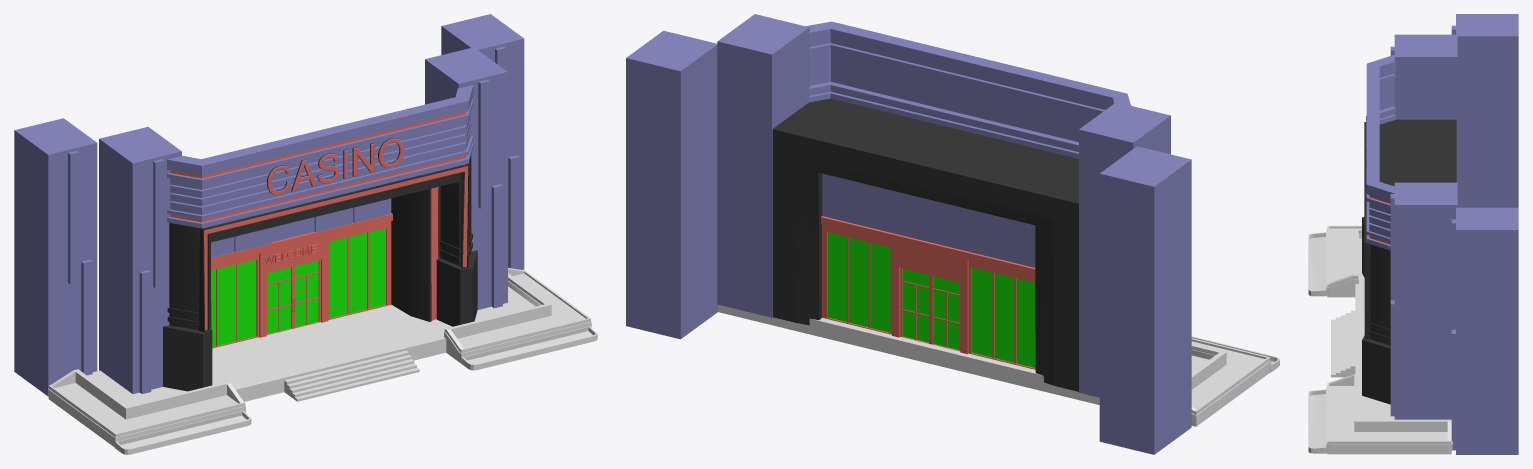
File: Casino_Entrance.fbx
The picture shows the model from 3 angles, left to right: view 1: azimuth 30°, elevation 25°; view 2: azimuth 150°, elevation 25°; view 3: azimuth 270°, elevation 25°; orthographic projection. The views are drawn at different scales.
Parts seen in each view (by area): view 1: CornerWall02, Casino_UpperBoard, CornerWall01, Entrance_U_Structure01, CornerWall03, Stair, Entrance_Glasses, FlowerBox03, Casino_Entrance_Parent, CornerWall04, Entrance_Frames, FlowerBox01 (+14 smaller); view 2: Entrance_U_Structure01, CornerWall02, CornerWall04, Casino_UpperBoard, CornerWall03, Entrance_Glasses, Entrance_U_Structure02, Entrance_Upper_Boards, CornerWall01, Entrance_Frames, FlowerBox03, Stair (+6 smaller); view 3: CornerWall04, CornerWall03, CornerWall02, Entrance_U_Structure01, FlowerBox01, CornerWall01, Casino_UpperBoard, FlowerBox03, Casino_Entrance_Parent, Stair, FlowerBox04, FlowerBox02 (+1 smaller).
Boxes of the visible parts, bbox=[...] form: CornerWall02: bbox=[14, 118, 97, 396]; Casino_UpperBoard: bbox=[167, 85, 473, 228]; CornerWall01: bbox=[99, 127, 181, 393]; Entrance_U_Structure01: bbox=[163, 155, 472, 391]; CornerWall03: bbox=[425, 47, 507, 309]; Stair: bbox=[237, 313, 419, 401]; Entrance_Glasses: bbox=[211, 228, 385, 346]; FlowerBox03: bbox=[47, 369, 245, 447]; Casino_Entrance_Parent: bbox=[87, 250, 477, 405]; CornerWall04: bbox=[441, 14, 524, 269]; Entrance_Frames: bbox=[211, 213, 392, 348]; FlowerBox01: bbox=[444, 268, 591, 363]; Entrance_U_Structure01: bbox=[772, 98, 1078, 391]; CornerWall02: bbox=[1099, 146, 1191, 454]; CornerWall04: bbox=[626, 30, 717, 339]; Casino_UpperBoard: bbox=[806, 21, 1130, 158]; CornerWall03: bbox=[717, 14, 809, 317]; Entrance_Glasses: bbox=[828, 232, 1034, 367]; Entrance_U_Structure02: bbox=[798, 156, 1053, 385]; Entrance_Upper_Boards: bbox=[822, 173, 1035, 267]; CornerWall01: bbox=[1079, 102, 1170, 397]; Entrance_Frames: bbox=[821, 216, 1035, 369]; FlowerBox03: bbox=[1191, 338, 1271, 426]; Stair: bbox=[854, 326, 992, 378]; CornerWall04: bbox=[1451, 207, 1518, 454]; CornerWall03: bbox=[1390, 182, 1457, 419]; CornerWall02: bbox=[1451, 14, 1518, 207]; Entrance_U_Structure01: bbox=[1362, 119, 1456, 345]; FlowerBox01: bbox=[1326, 374, 1452, 454]; CornerWall01: bbox=[1390, 34, 1457, 182]; Casino_UpperBoard: bbox=[1366, 54, 1396, 250]; FlowerBox03: bbox=[1326, 225, 1361, 297]; Casino_Entrance_Parent: bbox=[1355, 238, 1390, 404]; Stair: bbox=[1331, 309, 1364, 377]; FlowerBox04: bbox=[1308, 232, 1327, 296]; FlowerBox02: bbox=[1308, 389, 1327, 453].
Bounding box in the file's own units: 36.26 × 17.75 × 14.85.
